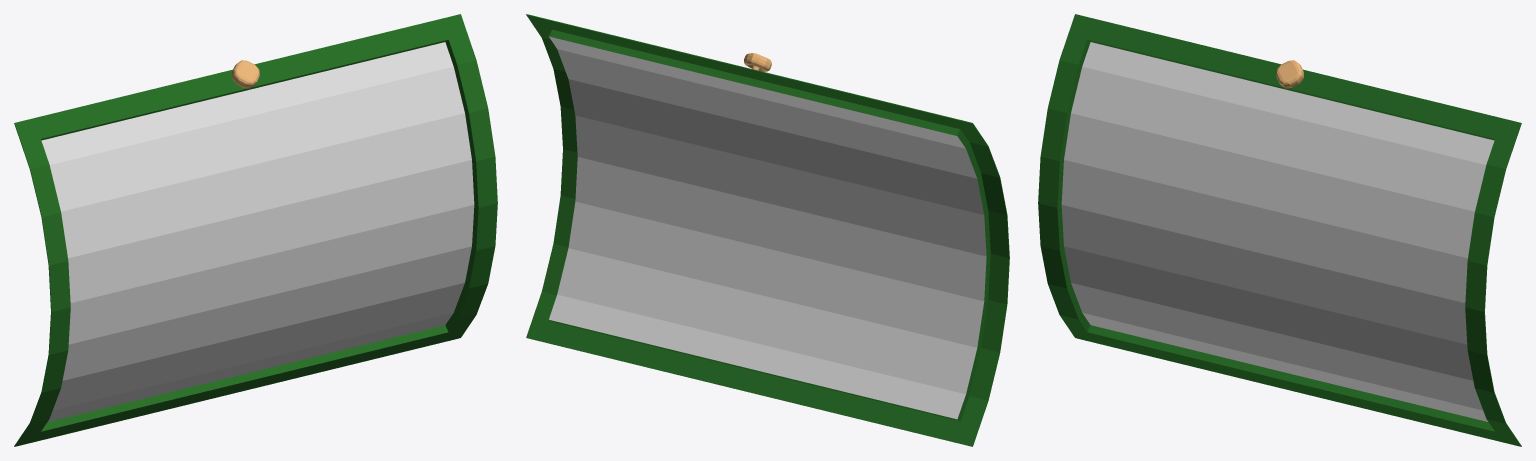
File: door2_lever_mechanical_room.glb
The picture shows the model from 3 angles, left to right: view 1: azimuth 30°, elevation 25°; view 2: azimuth 150°, elevation 25°; view 3: azimuth 330°, elevation 25°; orthographic projection.
Parts seen in each view (by area): view 1: Turn mechanism_door 2.001; view 2: Turn mechanism_door 2.001; view 3: Turn mechanism_door 2.001.
Boxes of the visible parts, x1,y1,x2,y2 form: Turn mechanism_door 2.001: (14, 14, 497, 446); Turn mechanism_door 2.001: (526, 14, 1009, 446); Turn mechanism_door 2.001: (1038, 14, 1521, 446).
Size of the model in its own units: 0.5769 by 0.4142 by 0.0837.
